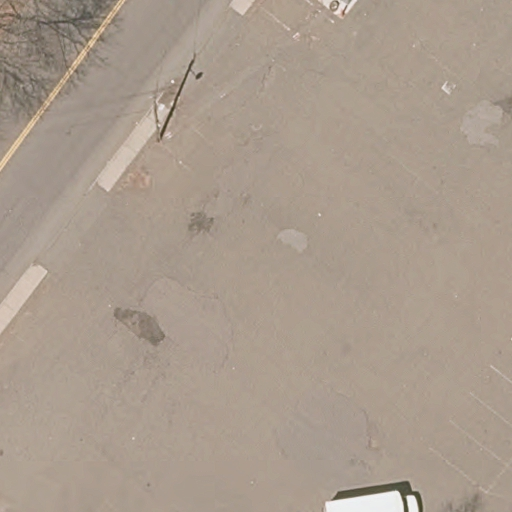DT: (137, 90, 169, 142)
